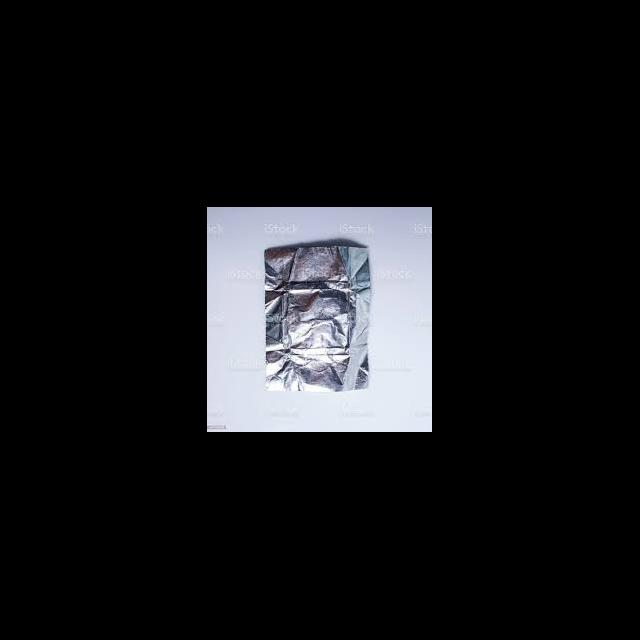metal: (264, 245, 369, 394)
